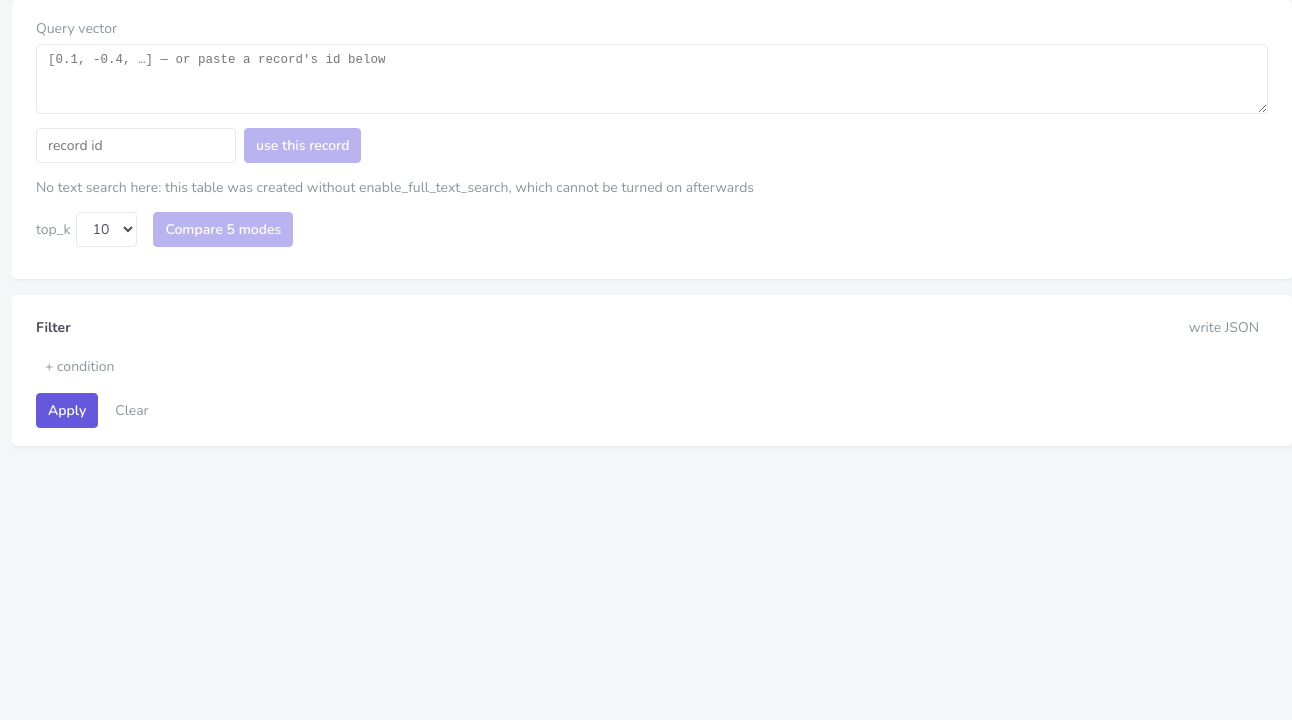
Test: the search inspector › marks what each approximate mode missed against exact
Step 1. Click the text box labelled "Query vector" → (652, 79), box [36,44,1268,114]
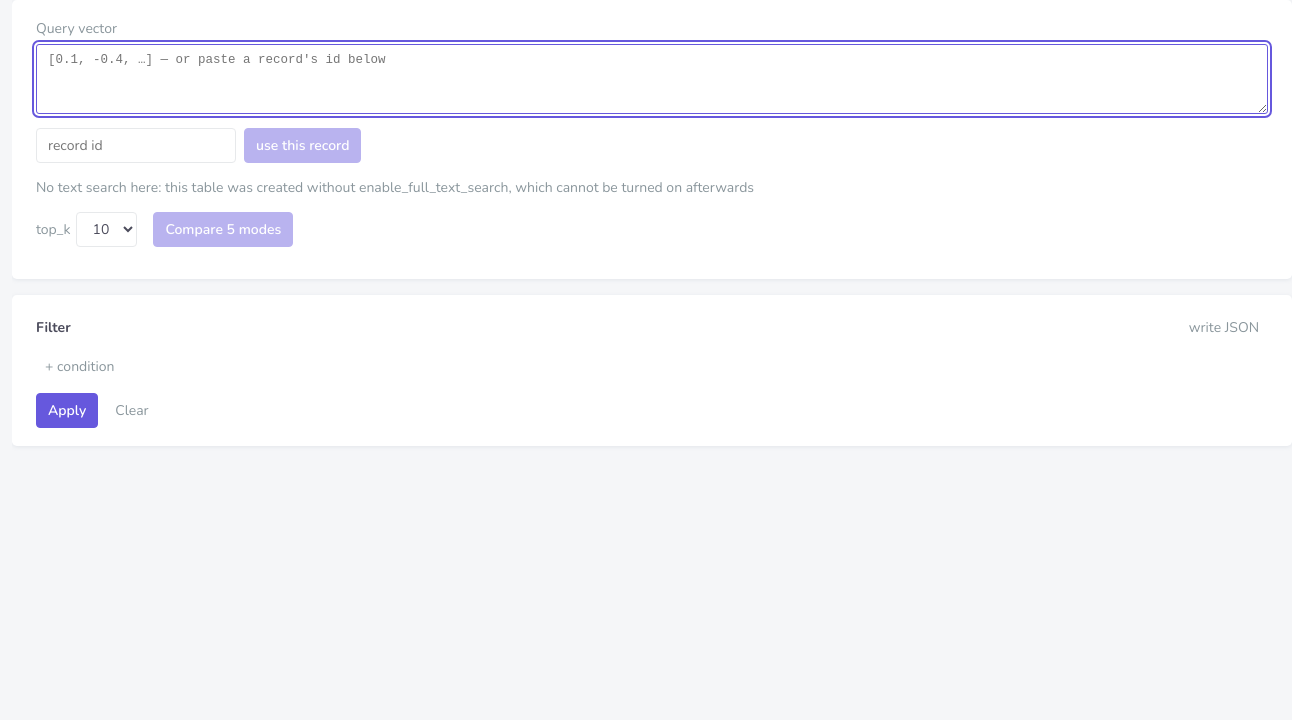
Step 2. Type keys "[1, 0, 0, 0]"
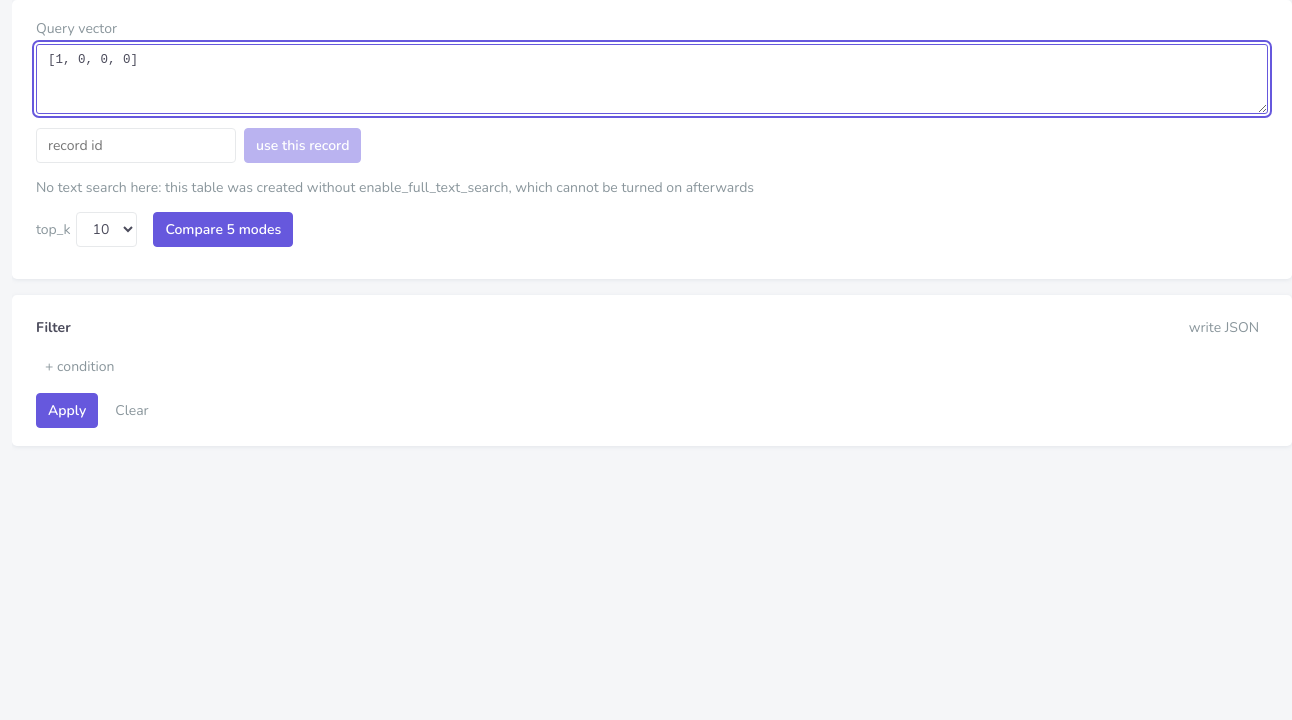
Step 3. Click the button "Compare 5 modes" → (223, 230), box [154,212,293,247]
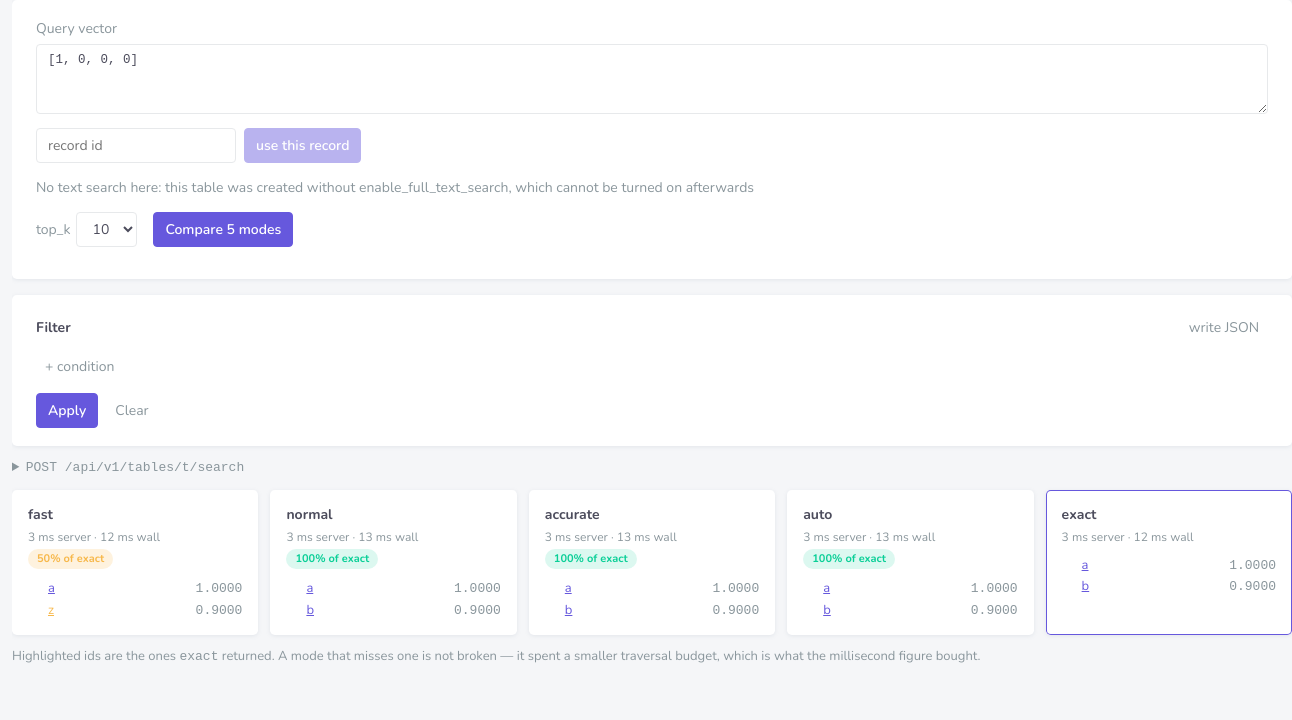
Expected: the text "50% of exact" is shown, [28,549,113,569]
Expected: the text "100% of exact" below "normal" is shown, [286,549,378,569]
